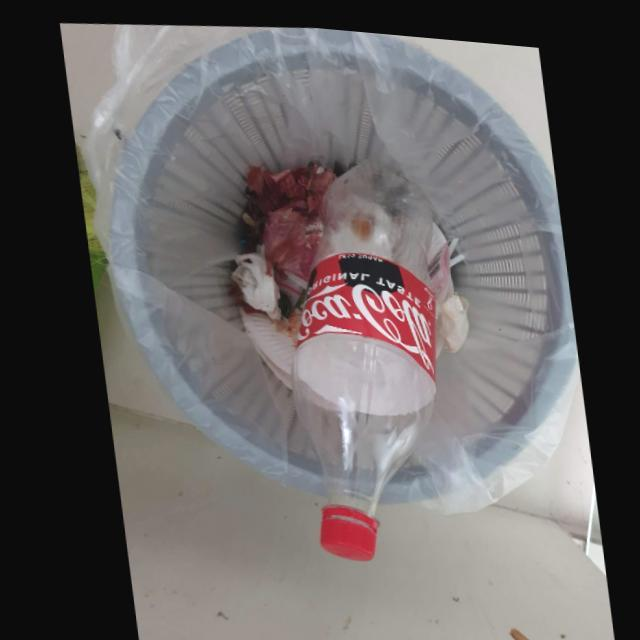biowaste: (241, 157, 334, 275), (228, 243, 276, 314)
paper: (236, 310, 288, 385), (236, 303, 292, 364), (438, 287, 468, 343)
plastic: (286, 151, 433, 555)
